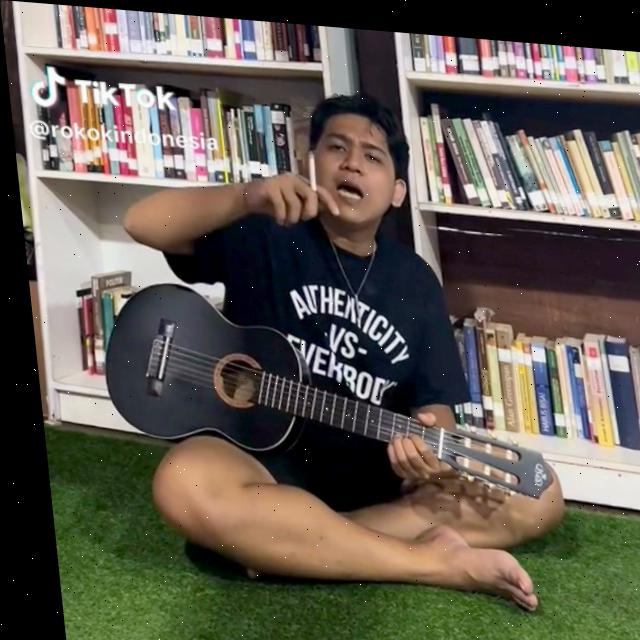cigarette: (303, 145, 315, 187)
